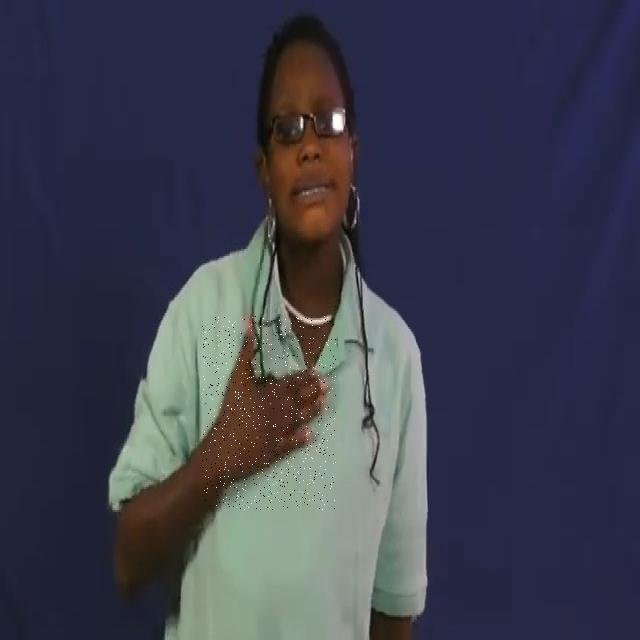please: (202, 316, 336, 510)
